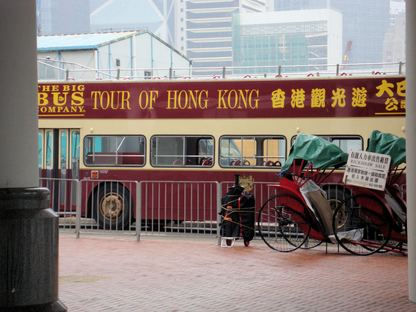bus: (38, 63, 407, 230)
